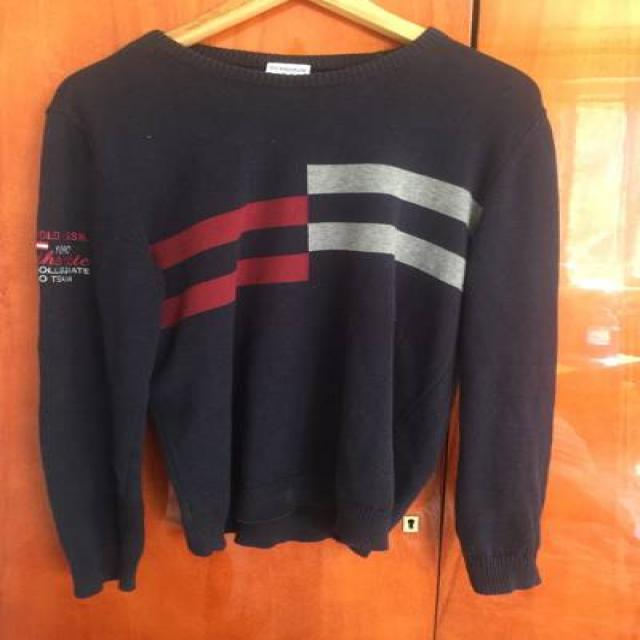Clothes -Biodegradable-: (34, 19, 558, 600)
